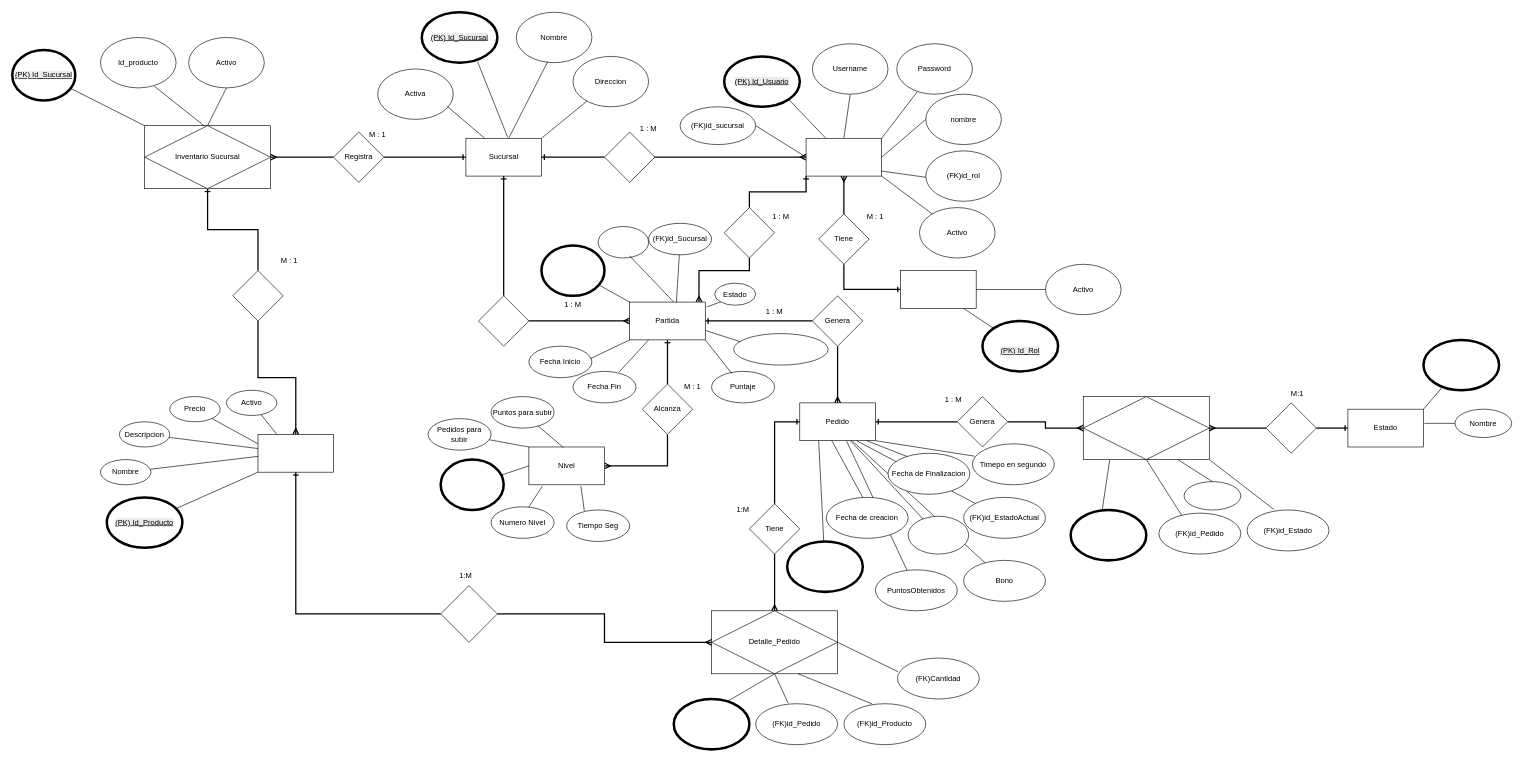
The diagram is 1523 pixels wide and 761 high, and some of its shapes have lost their labels. The shapes that lost their labels are listed below. From the top down, each one's centre as x and y in pixels, then its label:
the point at 629,156: Asignado
the point at 843,157: Usuario
the point at 623,242: (FK)id_usuario
the point at 749,232: Juega
the point at 572,270: (PK) Id_Partida
the point at 938,289: Rol
the point at 257,295: Detalla
the point at 503,320: Ocurre en
the point at 780,349: (FK)Id_nivelAlcanzado
the point at 1461,364: (PK) Id_Estado
the point at 1146,428: Historial Estado
the point at 1290,427: Refleja
the point at 295,453: Producto
the point at 472,484: (PK) Id_Nivel
the point at 1212,495: Fecha de cambio
the point at 938,535: (FK)id_partida
the point at 1108,534: (PK) Id_Historial
the point at 825,566: (PK) Id_Pedido
the point at 468,613: Corresponde
the point at 711,723: (PK) Id_Detalle
